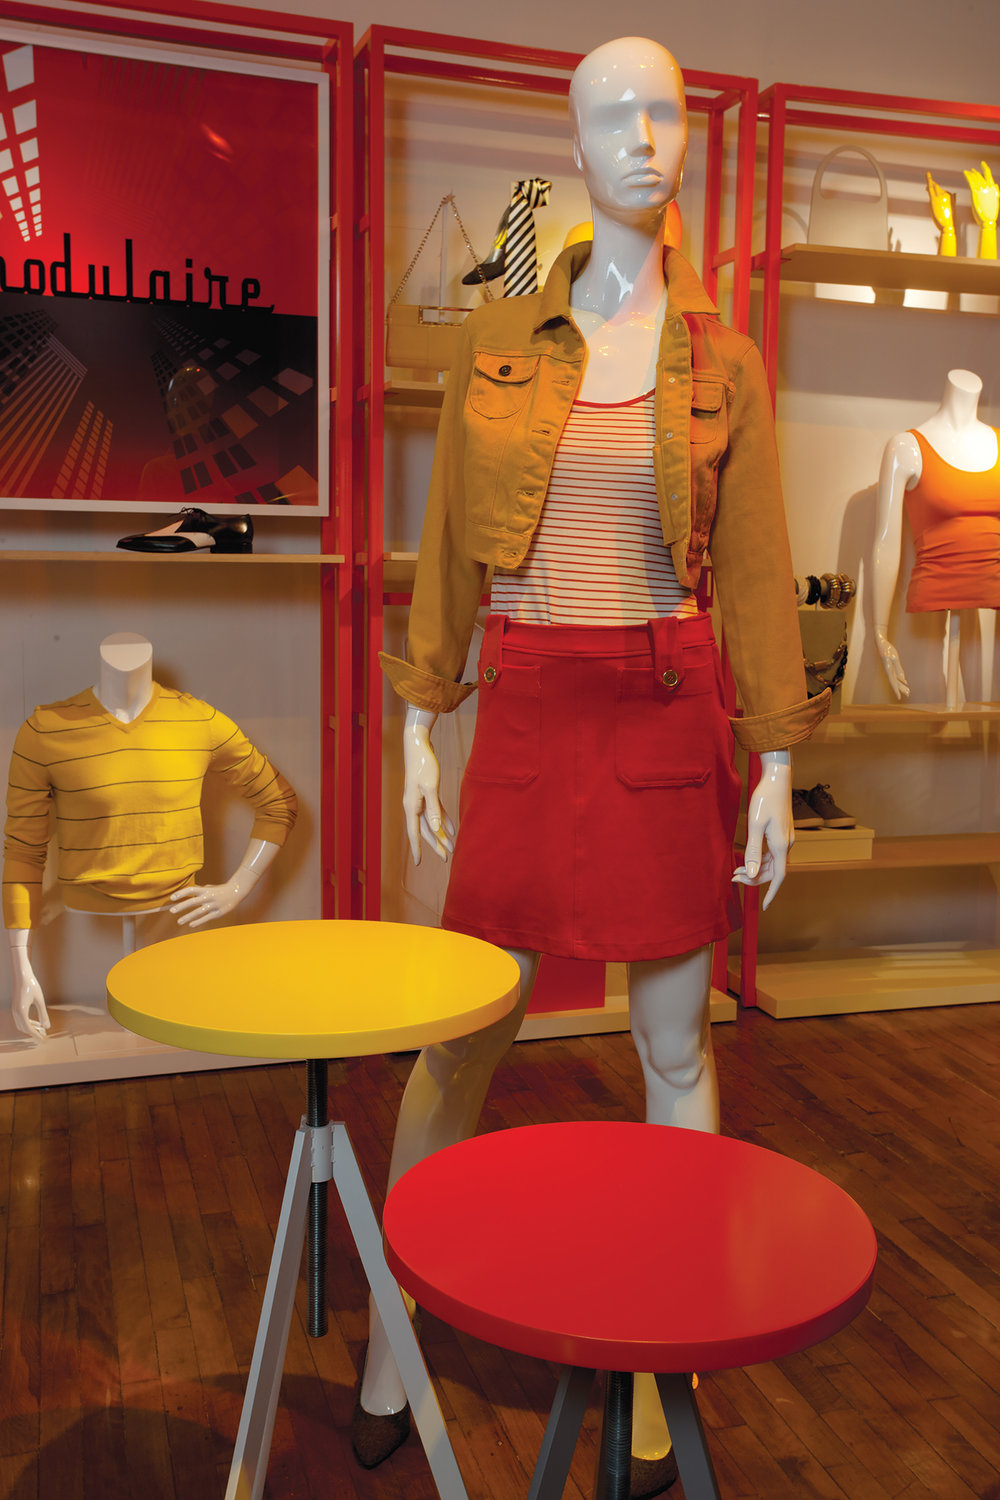person-like: (374, 12, 834, 1460), (2, 624, 300, 1050), (851, 356, 1000, 710)
